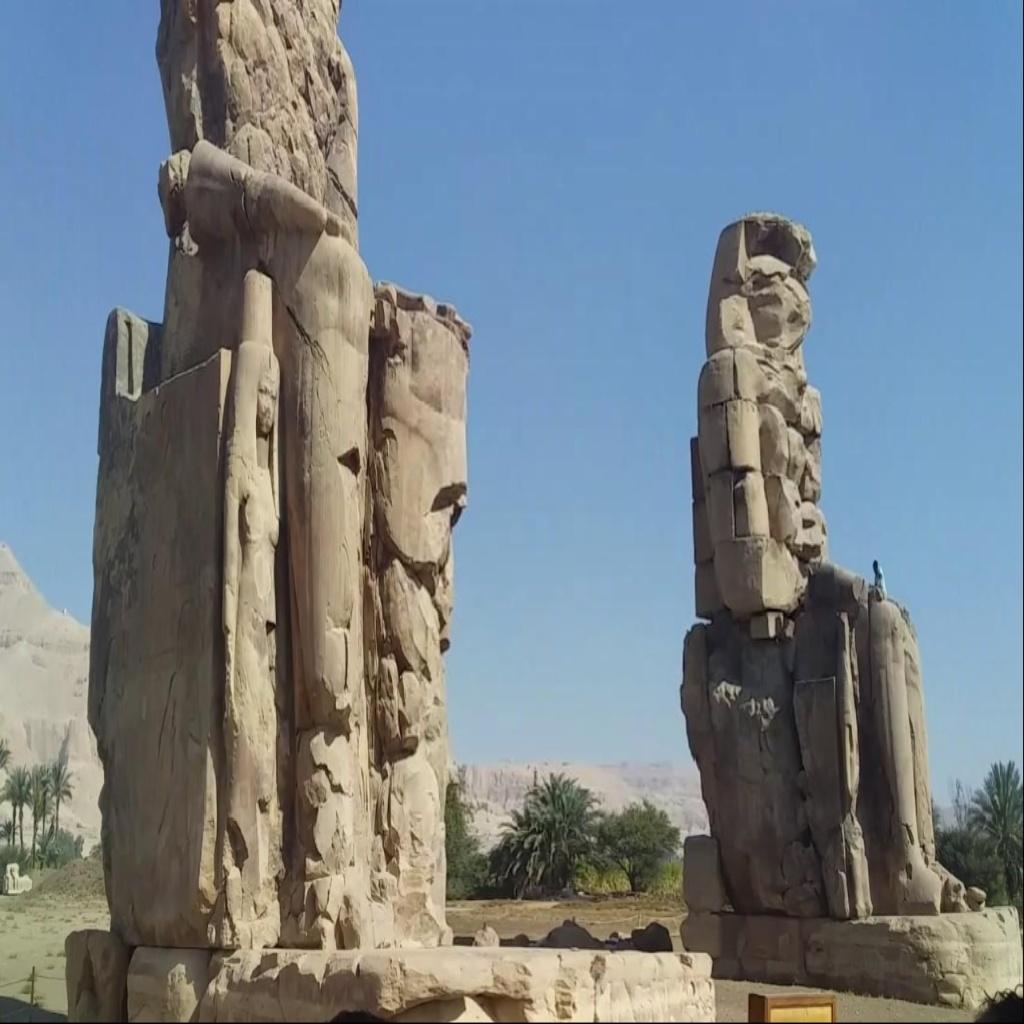Colossoi of Memnon: (78, 7, 478, 971), (676, 204, 978, 928)
